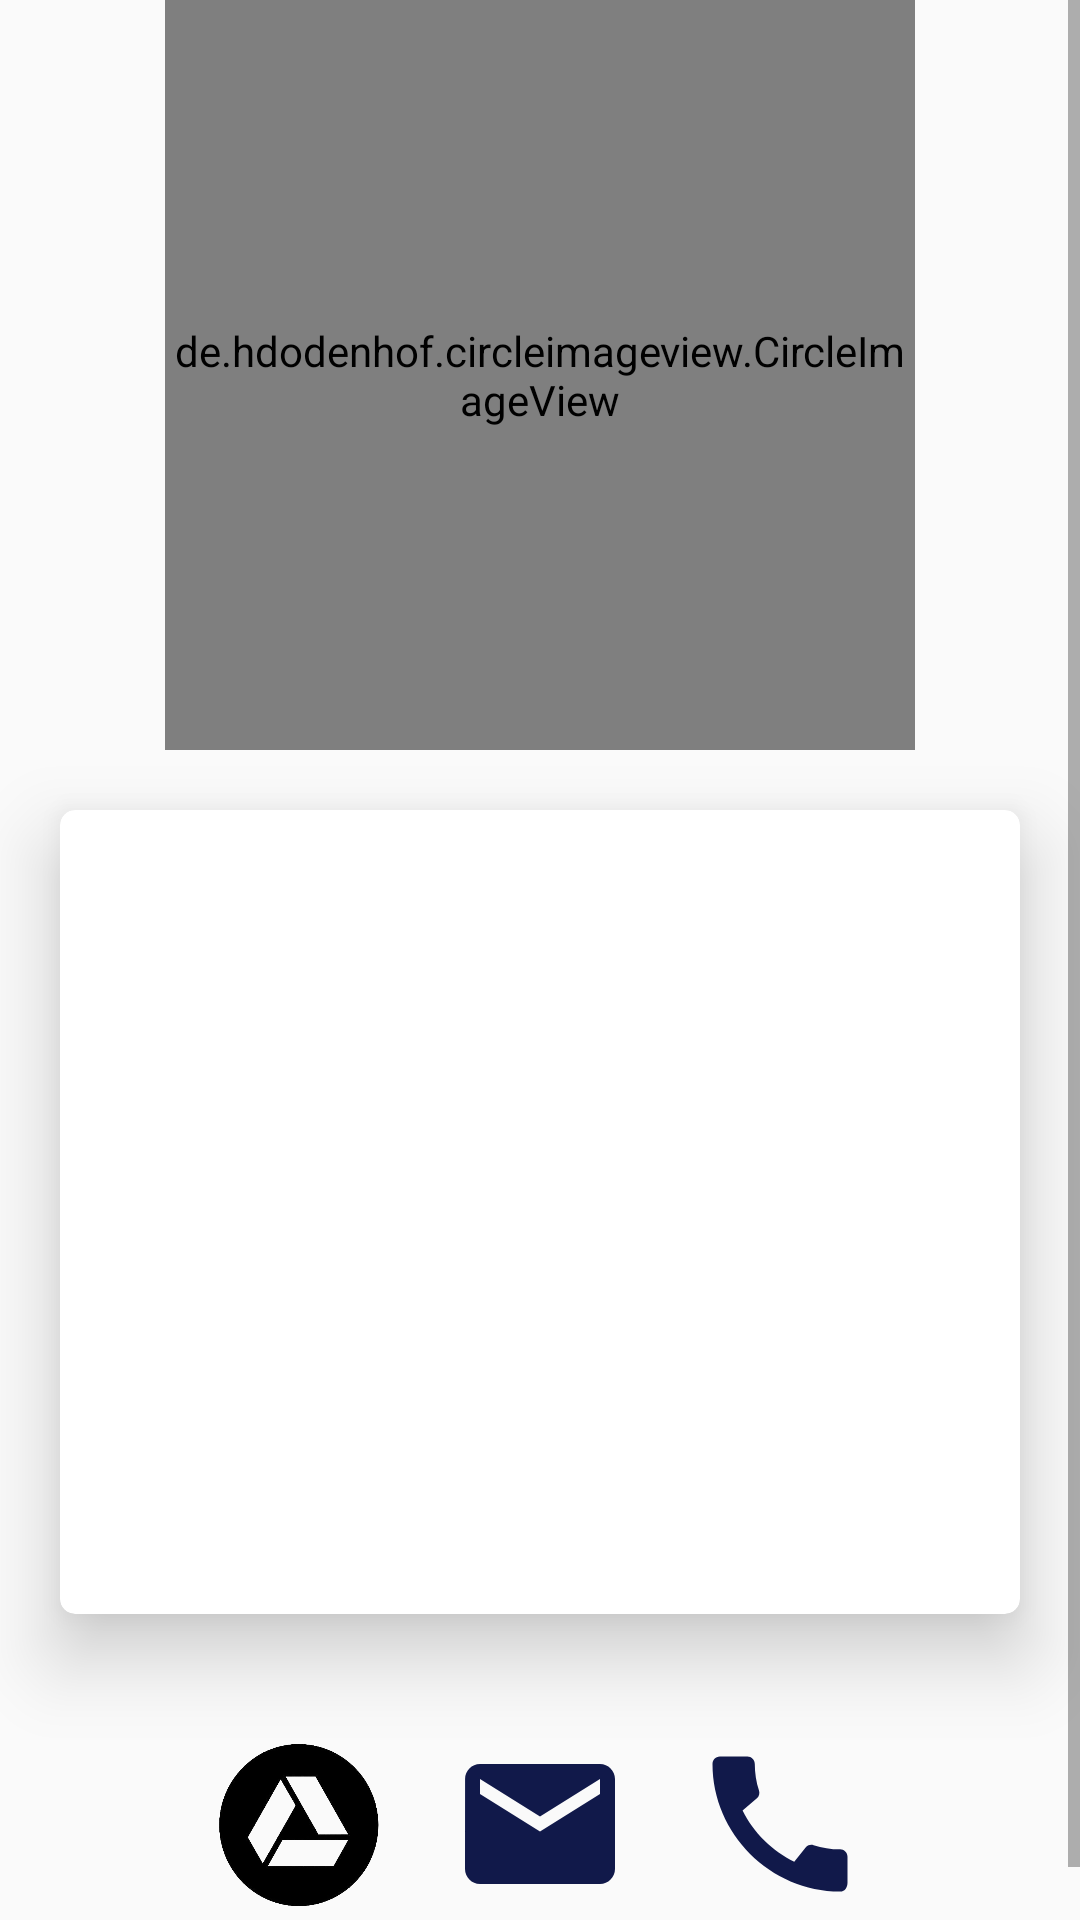

Named icons in this screenshot (1080px×1920px) and their bounding boxes, (x1, y1, x2, y2):
call: (712, 1756, 848, 1892)
mail: (465, 1764, 615, 1884)
